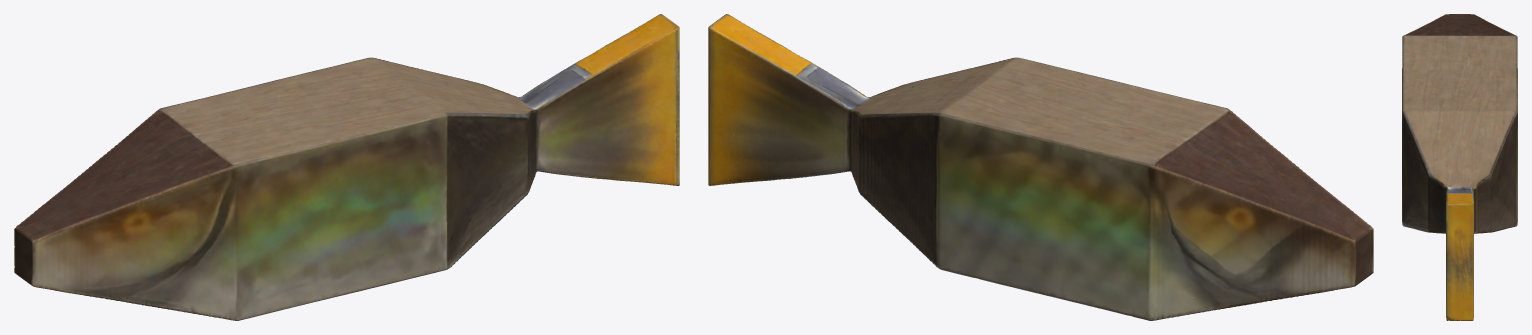
File: Fish.glb
The picture shows the model from 3 angles, left to right: view 1: azimuth 30°, elevation 25°; view 2: azimuth 150°, elevation 25°; view 3: azimuth 270°, elevation 25°; orthographic projection. The views are drawn at different scales.
Bounding box in the file's own units: 2 × 0.4697 × 0.4216.
Materials: 1 (1 with a texture image).
